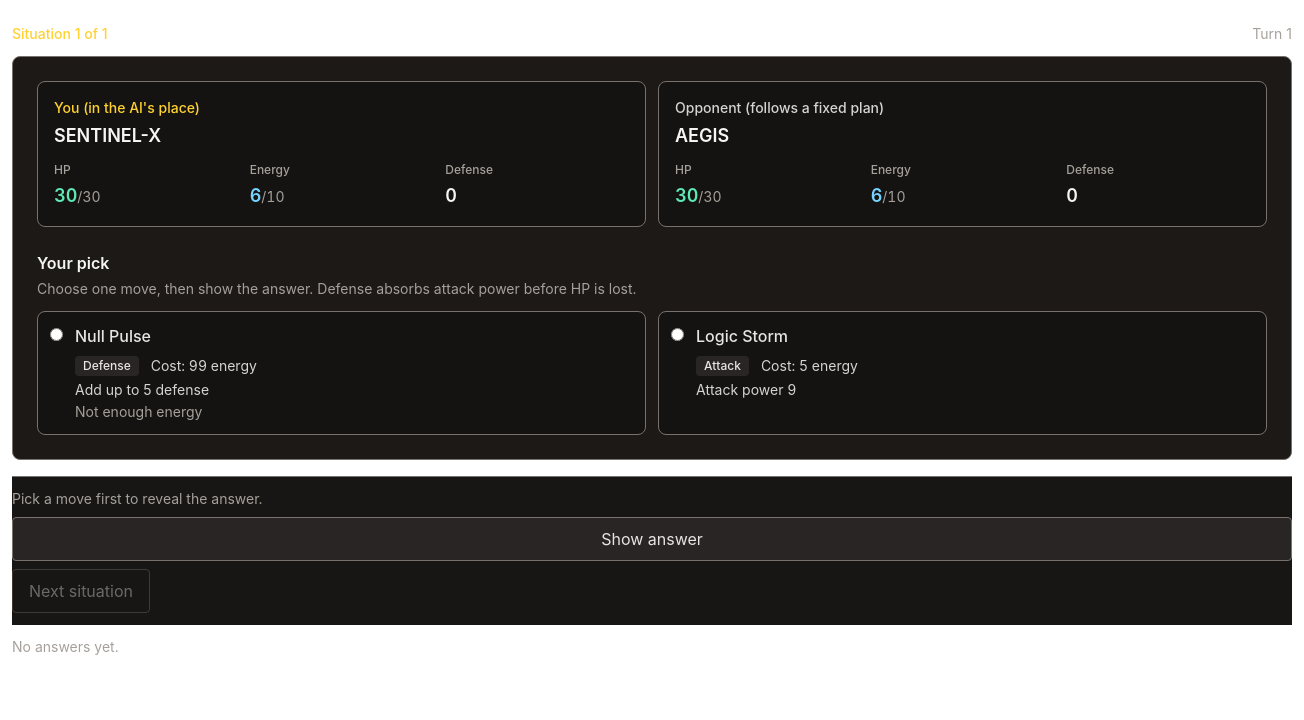
Scenario: ChallengeView › shows recorded costs without changing move order or affordability behavior
expect the text "Cost: 99 energy" is shown: met, box [151,356,257,376]
expect the text "Not enough energy" is shown: met, box [75,403,202,420]
Click the 1st radio button: (56,334) [50,328,63,341]
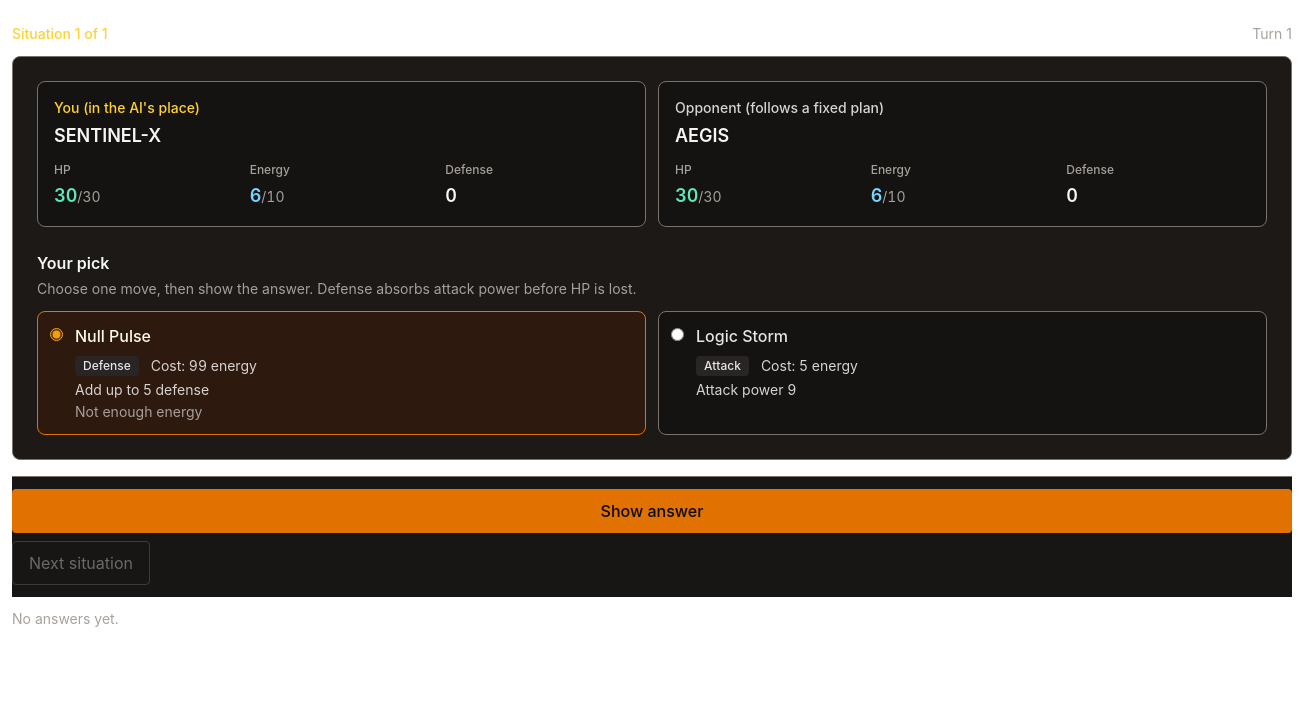
expect the 1st radio button is checked: met, box [50,328,63,341]
expect the button with test id "challenge-show-answer" is enabled: met, box [12,489,1292,533]
